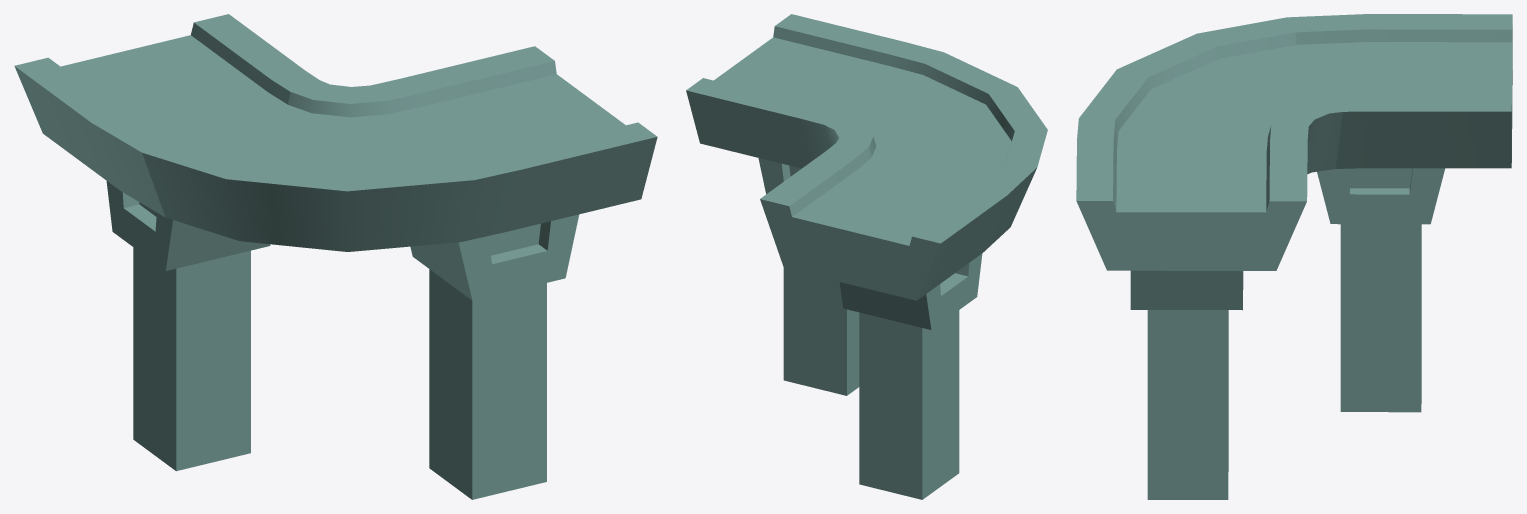
The model's file is street curved.fbx.
The picture shows the model from 3 angles, left to right: view 1: azimuth 30°, elevation 25°; view 2: azimuth 150°, elevation 25°; view 3: azimuth 270°, elevation 25°; orthographic projection. The views are drawn at different scales.
Visible parts, largest first — view 1: street curved; view 2: street curved; view 3: street curved.
Boxes of the visible parts, bbox=[...] form: street curved: bbox=[14, 14, 657, 499]; street curved: bbox=[686, 14, 1047, 499]; street curved: bbox=[1076, 14, 1512, 499].
Bounding box in the file's own units: 2747 × 2268 × 2702.
